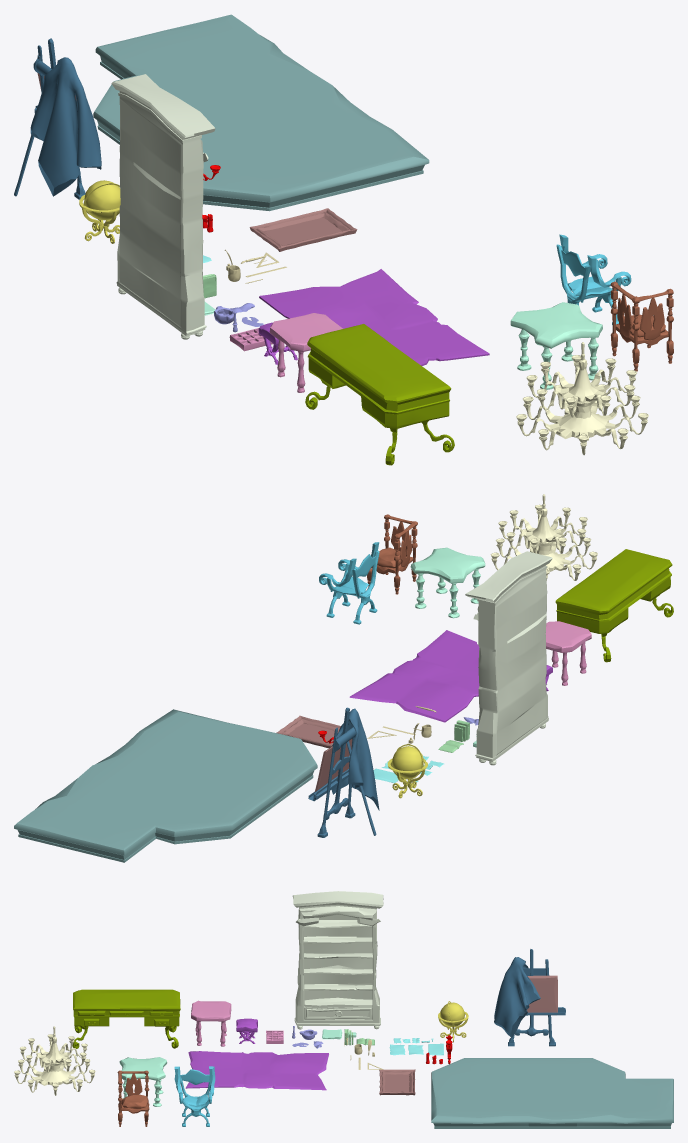
Rendered from Kit_Bureau.fbx.
The picture shows the model from 3 angles, top to bottom: view 1: azimuth 30°, elevation 25°; view 2: azimuth 150°, elevation 25°; view 3: azimuth 270°, elevation 25°; orthographic projection. The views are drawn at different scales.
Parts seen in each view (by area): view 1: CoinPiece, Bibliotheque, Bureau, Carpet, Chevalet1, Lustre, Table, Fauteuil, Cadre, Chaise, PetiteTable, Globe (+1 smaller); view 2: CoinPiece, Bibliotheque, Carpet, Bureau, Chevalet1, Lustre, Table, Chaise, Fauteuil, PetiteTable, Cadre, Globe (+1 smaller); view 3: CoinPiece, Bibliotheque, Carpet, Bureau, Chevalet1, Lustre, Chaise, Fauteuil, Table, PetiteTable, BibliothequeTiroir, Cadre (+2 smaller).
Boxes of the visible parts, x1,y1,x2,y2 form: CoinPiece: (93,14,429,211); Bibliotheque: (111,74,215,339); Bureau: (305,324,454,465); Carpet: (259,269,489,365); Chevalet1: (14,38,101,199); Lustre: (516,342,648,455); Table: (510,302,602,389); Fauteuil: (610,281,673,371); Cadre: (249,208,357,251); Chaise: (556,234,631,324); PetiteTable: (269,313,342,392); Globe: (84,180,120,220); CoinPiece: (14,709,317,862); Bibliotheque: (465,551,552,765); Carpet: (349,630,479,722); Bureau: (555,549,673,662); Chevalet1: (308,707,379,837); Lustre: (490,494,597,580); Table: (410,547,485,618); Chaise: (319,542,379,624); Fauteuil: (367,514,417,594); PetiteTable: (545,621,591,685); Cadre: (276,715,340,748); Globe: (392,746,423,778); CoinPiece: (431,1058,673,1128); Bibliotheque: (292,891,383,1029); Carpet: (185,1051,328,1090); Bureau: (72,989,180,1048); Chevalet1: (494,949,565,1046); Lustre: (14,1026,95,1095); Chaise: (174,1066,215,1126); Fauteuil: (117,1070,149,1126); Table: (119,1057,167,1106); PetiteTable: (191,1000,231,1046); BibliothequeTiroir: (304,1005,372,1019); Cadre: (379,1069,415,1095).
Bounding box in the file's own units: 53.82 × 30.57 × 138.
